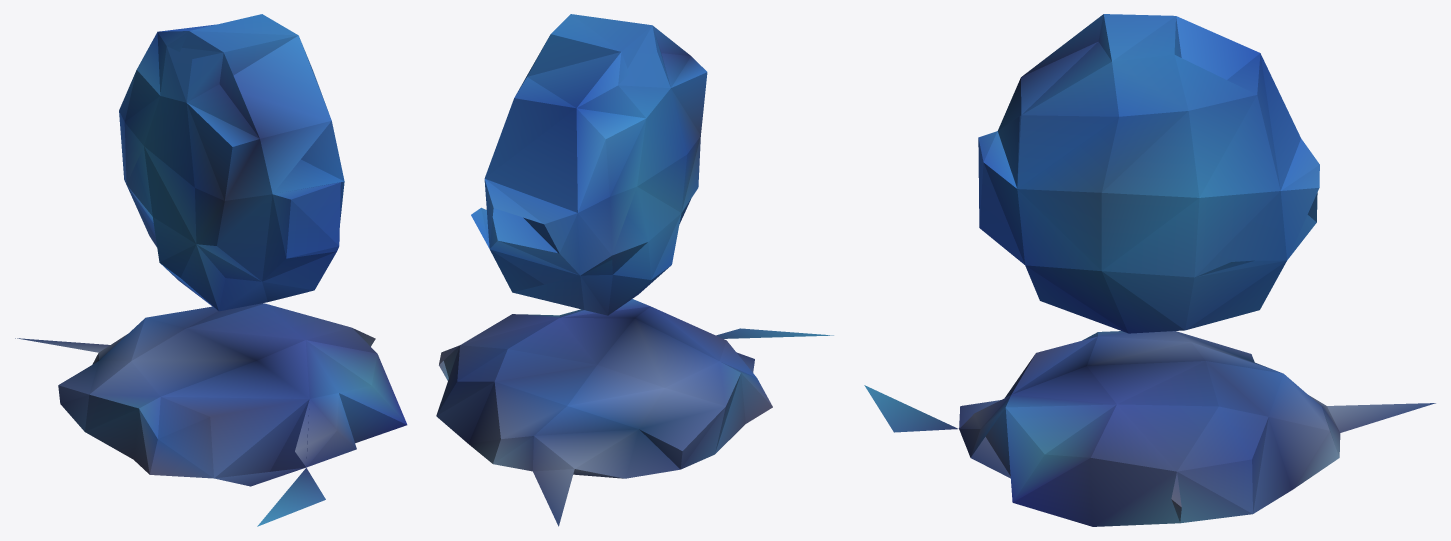
The model's file is ai-core.glb.
3 views of the same model, side by side, from view 1: azimuth 30°, elevation 25°; view 2: azimuth 150°, elevation 25°; view 3: azimuth 270°, elevation 25° (orthographic). The views are drawn at different scales.
Parts seen in each view (by area): view 1: ai-core-far; view 2: ai-core-far; view 3: ai-core-far.
Boxes of the visible parts, x1=… form: ai-core-far: x1=15, y1=14, x2=407, y2=526; ai-core-far: x1=436, y1=14, x2=833, y2=526; ai-core-far: x1=864, y1=14, x2=1435, y2=526.
Bounding box in the file's own units: 0.624 × 0.8129 × 0.9833.
